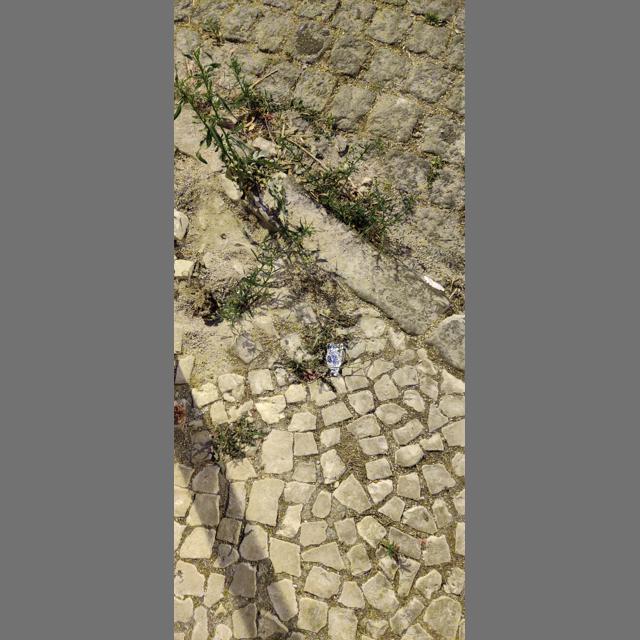litter: (327, 344, 344, 377), (425, 276, 446, 292)
